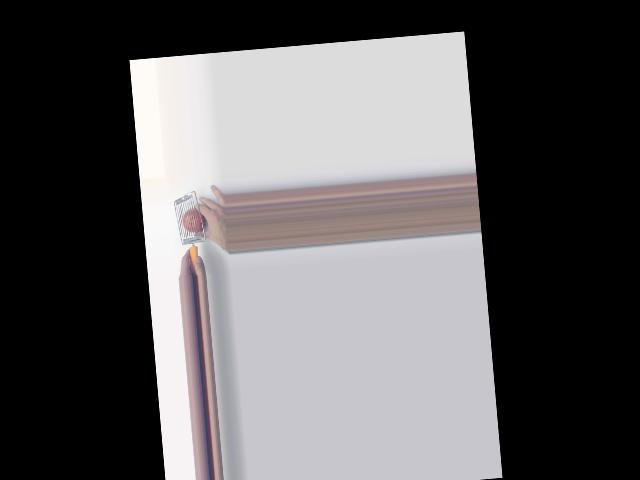tomato: (181, 208, 206, 234)
